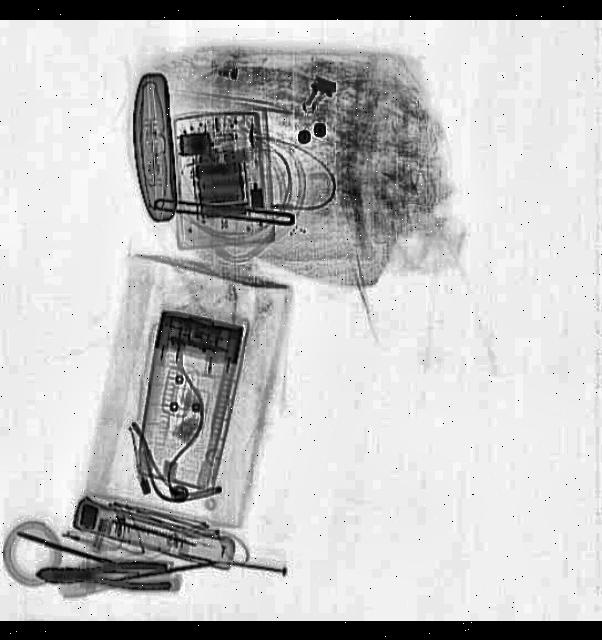Pliers: (38, 560, 172, 594)
